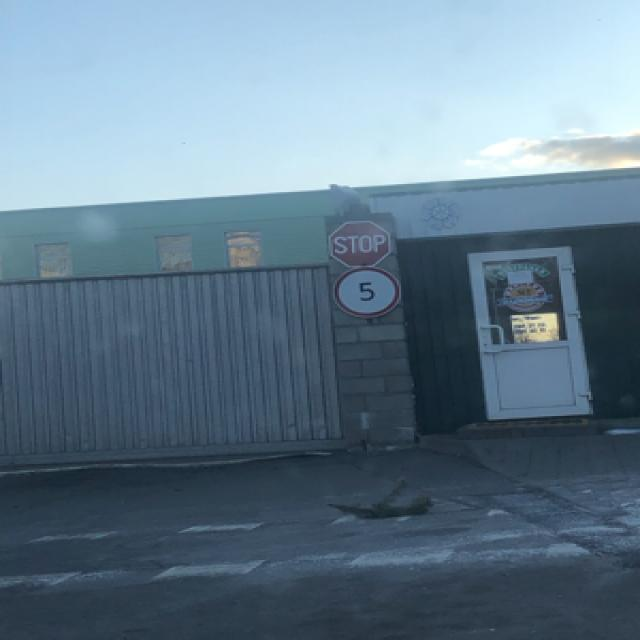speedlimit: (335, 266, 397, 315)
stop: (326, 218, 388, 266)
